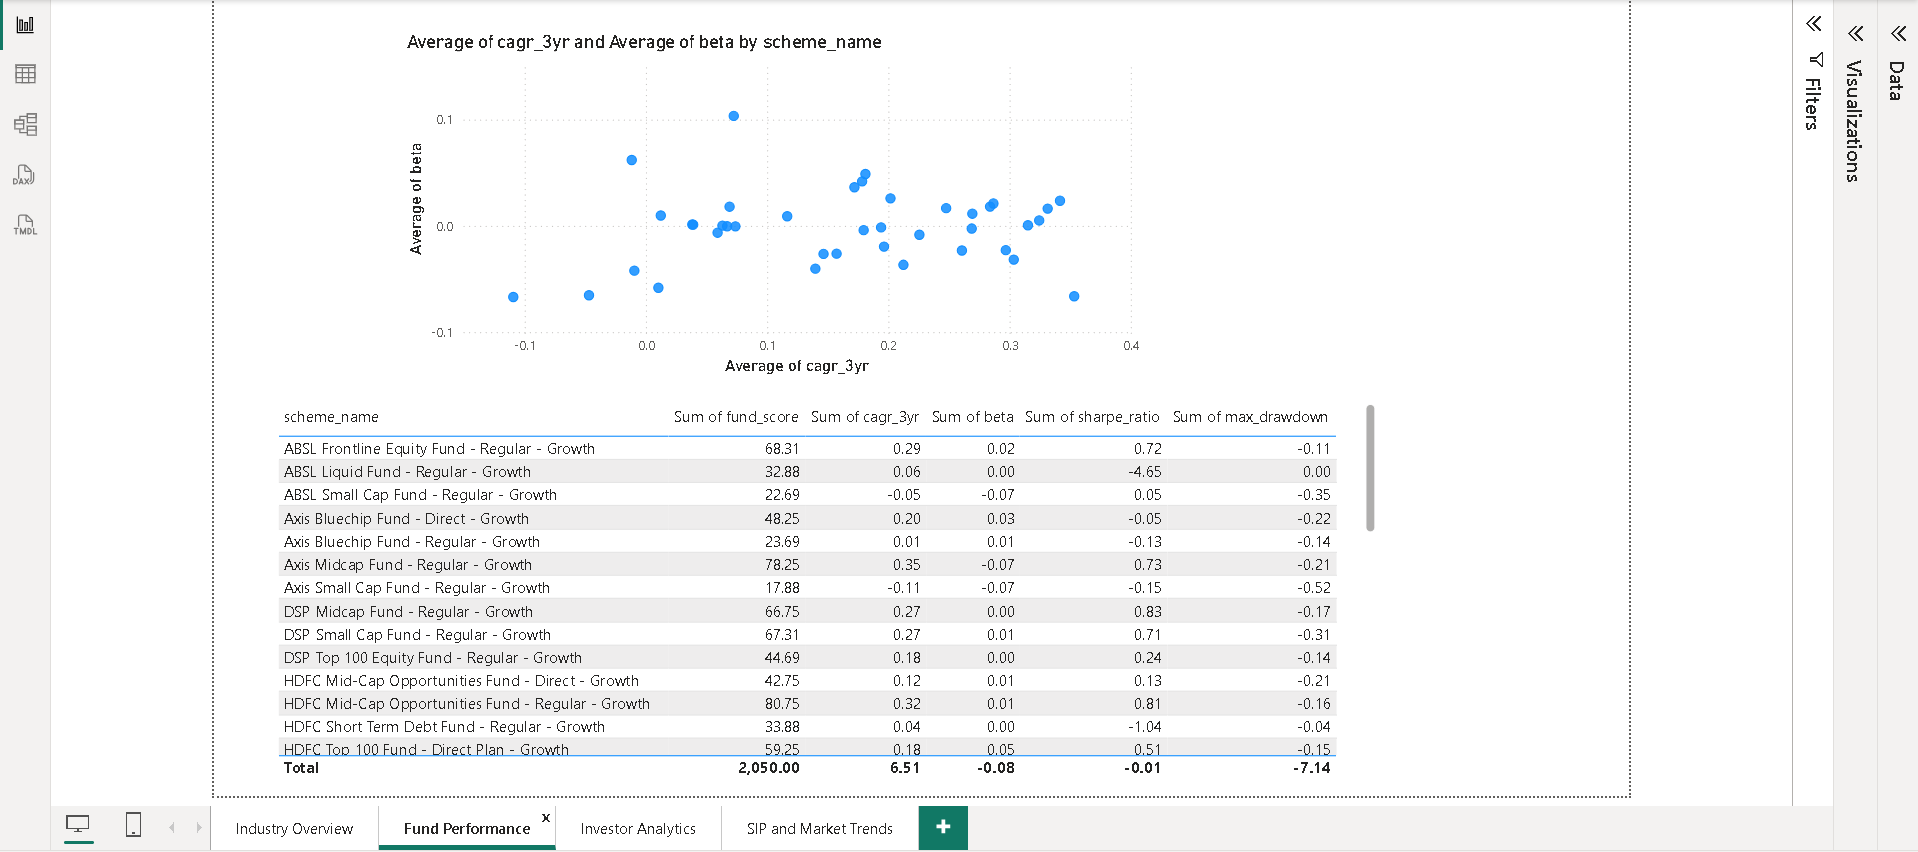

This screenshot's page, from the dashboard's own definition file:
{"tool":"powerbi","page":{"name":"Fund Performance","canvas":[1280,720],"ordinal":1},"visuals":[{"type":"scatterChart","fields":{"X":["Avg(fund_scorecard.cagr_3yr)"],"Y":["Avg(fund_scorecard.beta)"],"Category":["fund_scorecard.scheme_name"]},"box":[169.1,27.2,672.8,317.3],"z":0},{"type":"tableEx","fields":{"Values":["fund_scorecard.scheme_name","Sum(fund_scorecard.fund_score)","Sum(fund_scorecard.cagr_3yr)","Sum(fund_scorecard.beta)","Sum(fund_scorecard.sharpe_ratio)","Sum(fund_scorecard.max_drawdown)"]},"box":[51.9,360.5,1003.7,348.1],"z":1000}]}

Visuals, with their boxes on the page's 1280x720 design canvas (x1, y1, x2, y2). These are canvas units, not pixel positions in the 1918x852 screenshot, which may show the page scaled, cropped or inside an application window:
scatterChart - Avg(fund_scorecard.cagr_3yr) x Avg(fund_scorecard.beta): detection(169, 27, 842, 344)
tableEx - fund_scorecard.scheme_name x Sum(fund_scorecard.fund_score): detection(52, 360, 1056, 709)
